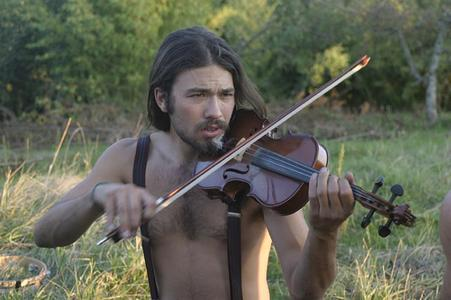person: (32, 27, 357, 300)
